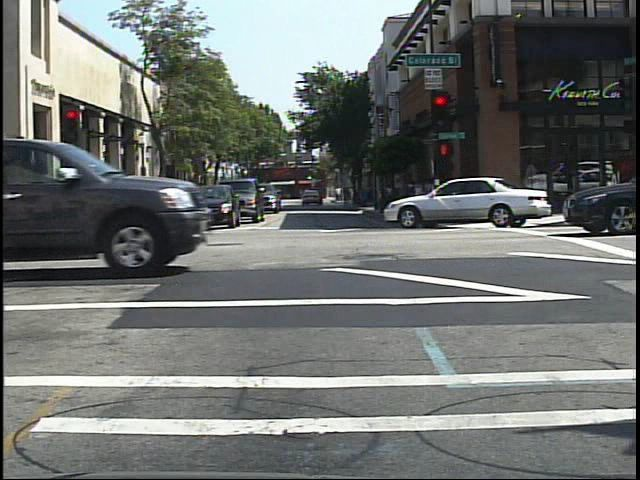person: (105, 180, 124, 222)
